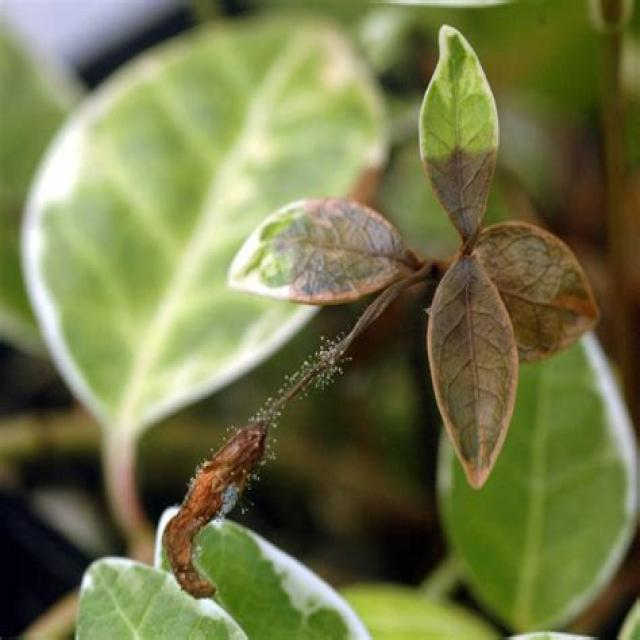blight: (426, 236, 526, 479)
